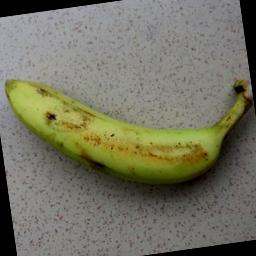Banana Ripe: (0, 35, 256, 224)
